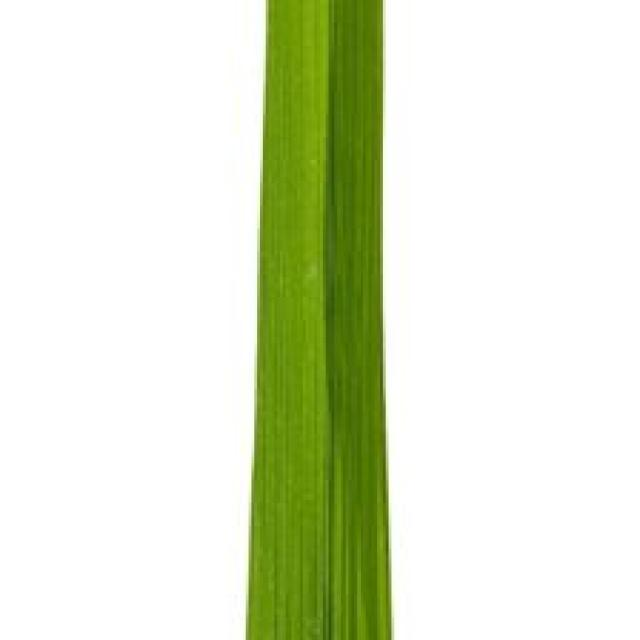Rice___Healthy_Rice_Plant: (245, 0, 395, 637)
